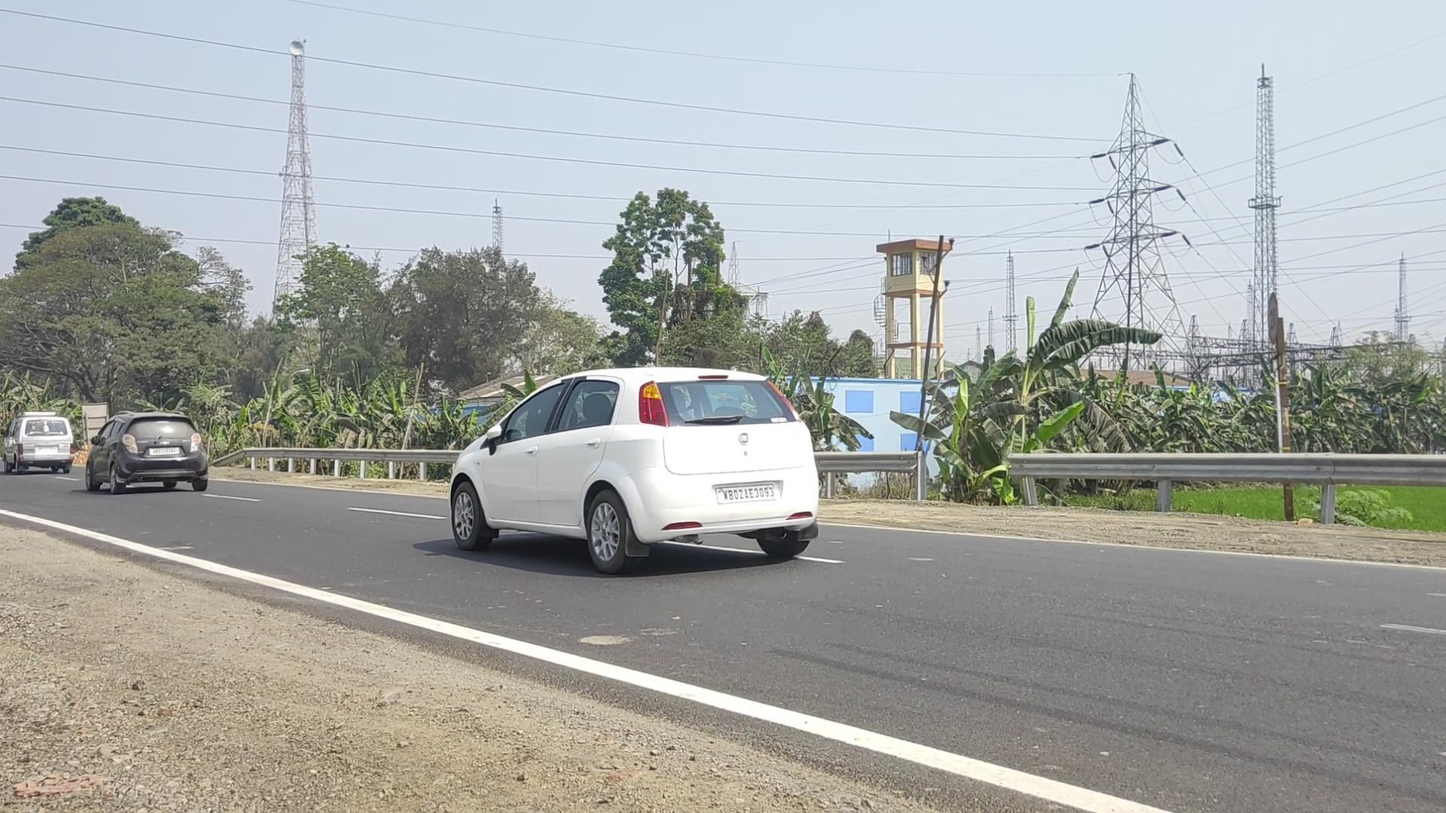car: (450, 366, 819, 574), (85, 410, 209, 495)
van: (1, 411, 75, 474)
